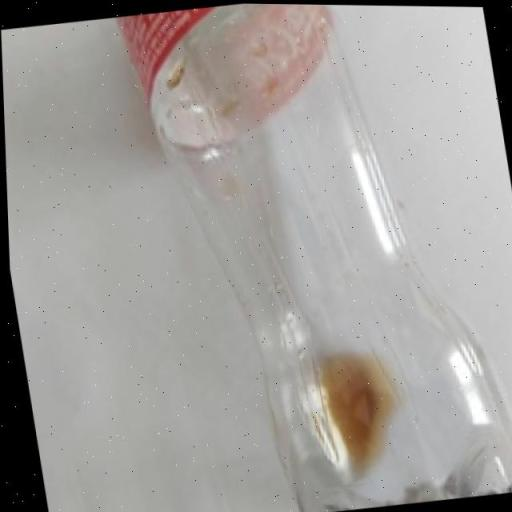plastic: (122, 1, 511, 512)
